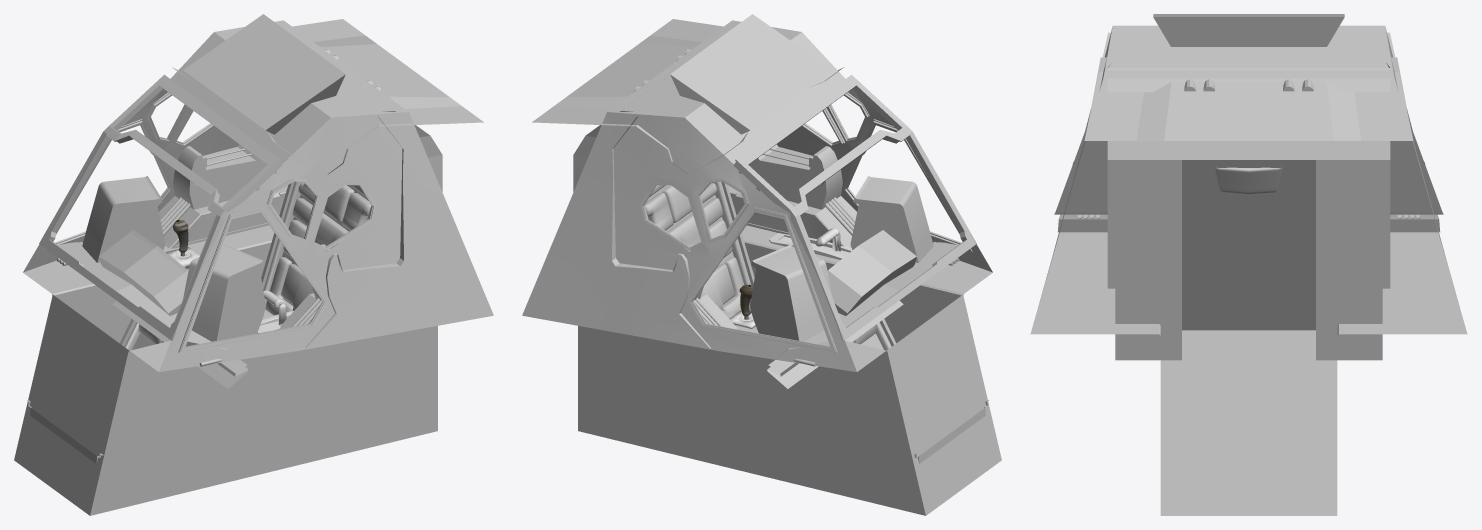
The model's file is cabine_entiere_low.fbx.
3 views of the same model, side by side, from view 1: azimuth 30°, elevation 25°; view 2: azimuth 150°, elevation 25°; view 3: azimuth 270°, elevation 25° (orthographic). The views are drawn at different scales.
Visible parts, largest first — view 1: cockpit_low, avant_low, plafond_low, siege_low, manette_base_low; view 2: cockpit_low, avant_low, plafond_low, siege_low, manette_base_low; view 3: cockpit_low, plafond_low, siege_low.
Part boxes in pixels (x1,y1,x2,y2): cockpit_low: (14,20,493,515); avant_low: (39,74,376,388); plafond_low: (172,14,483,174); siege_low: (27,181,371,463); manette_base_low: (166,247,293,333); cockpit_low: (522,20,1001,515); avant_low: (639,74,976,388); plafond_low: (532,14,843,174); siege_low: (644,181,988,463); manette_base_low: (729,233,852,328); cockpit_low: (1030,25,1467,515); plafond_low: (1084,14,1413,140); siege_low: (1215,164,1282,194).
Bounding box in the file's own units: 307 × 310 × 276.
